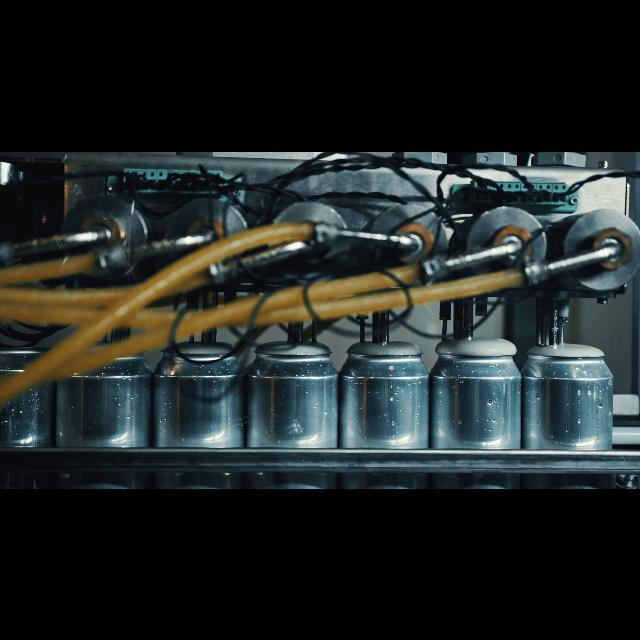empty: (57, 339, 143, 488), (1, 342, 52, 488)
full: (246, 332, 336, 488), (149, 332, 237, 488), (434, 332, 520, 488), (524, 332, 610, 488), (340, 334, 426, 488)
